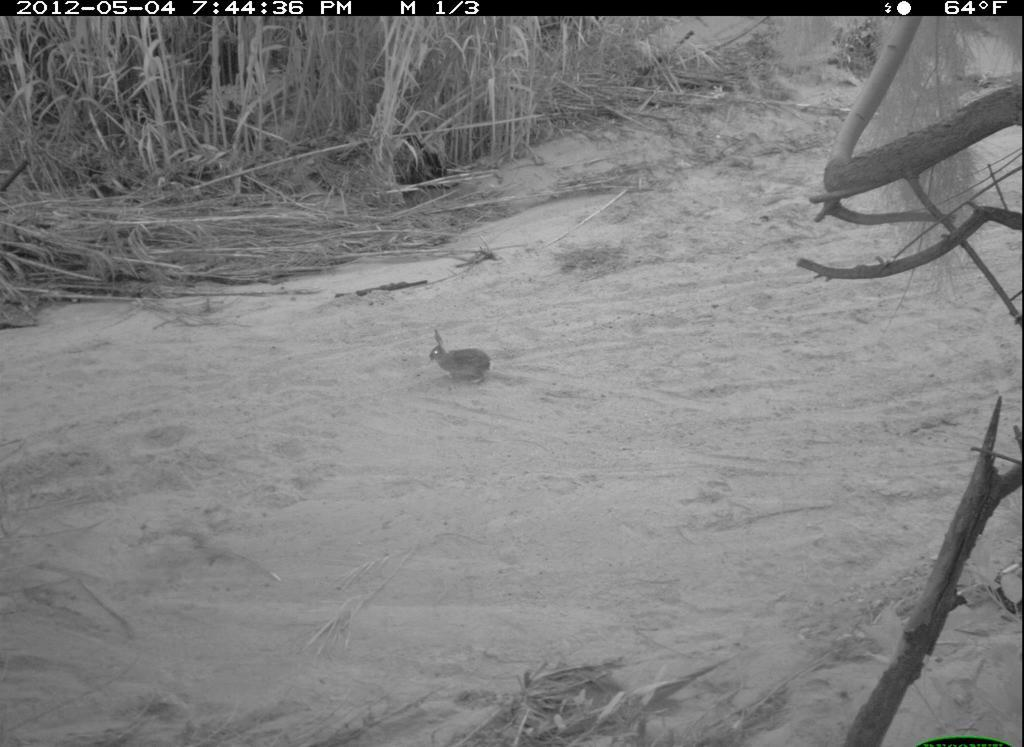rabbit: (420, 327, 509, 393)
